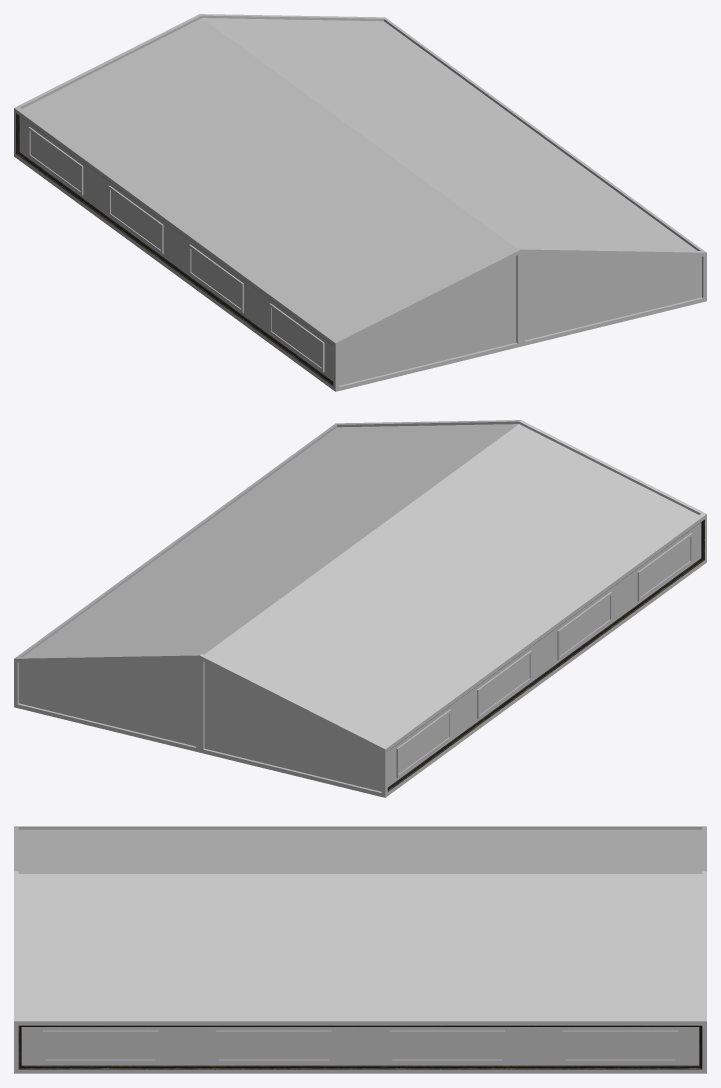
The model's file is roof_mh_4_b_3.fbx.
The picture shows the model from 3 angles, top to bottom: view 1: azimuth 30°, elevation 25°; view 2: azimuth 150°, elevation 25°; view 3: azimuth 270°, elevation 25°; orthographic projection. The views are drawn at different scales.
Parts seen in each view (by area): view 1: roof_mh_4_b_3; view 2: roof_mh_4_b_3; view 3: roof_mh_4_b_3.
Boxes of the visible parts, bbox=[...] form: roof_mh_4_b_3: bbox=[14, 14, 706, 391]; roof_mh_4_b_3: bbox=[14, 420, 706, 797]; roof_mh_4_b_3: bbox=[14, 826, 706, 1073].
Bounding box in the file's own units: 8 × 12 × 2.
